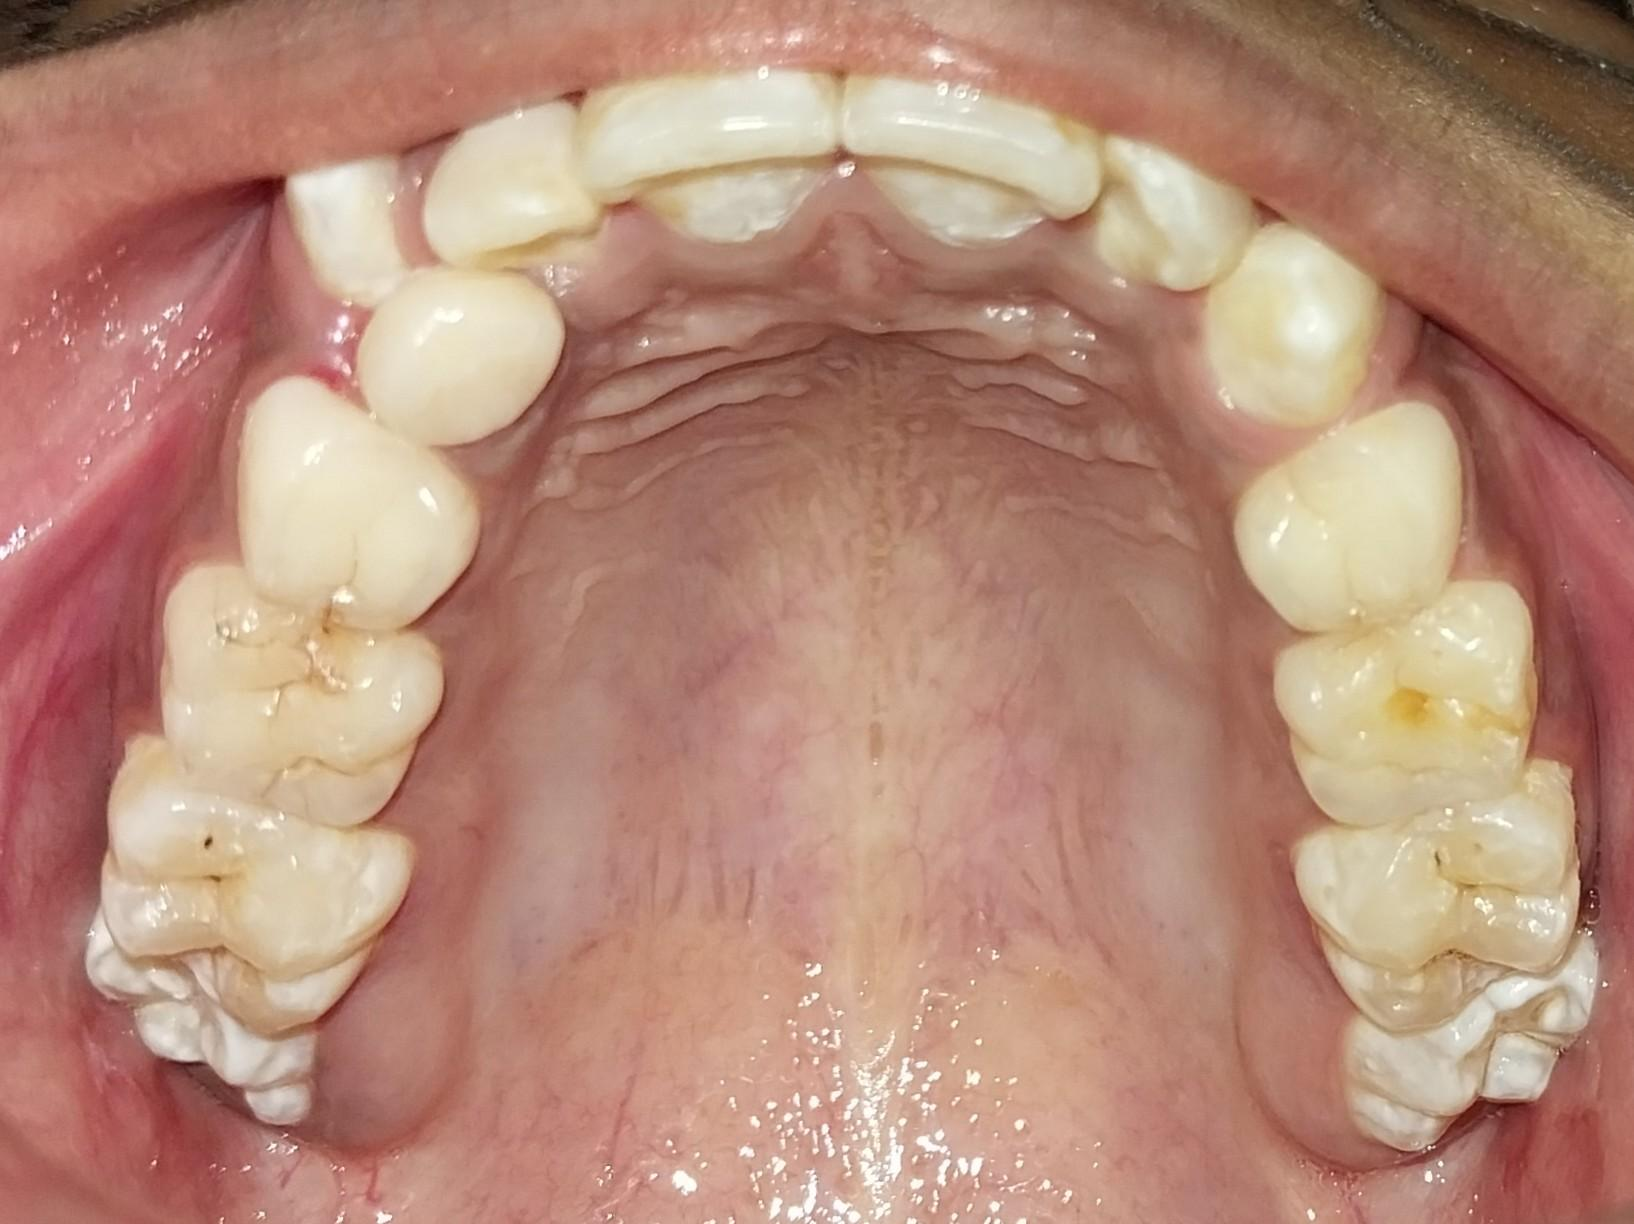D: (103, 763, 410, 1038)
